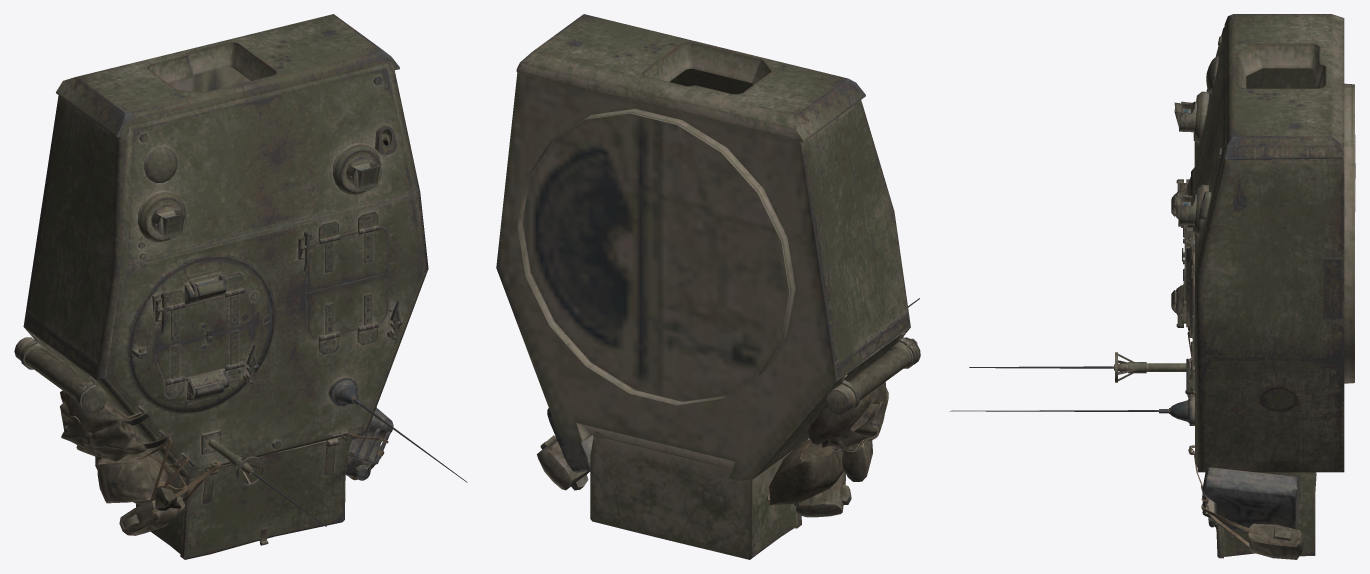
The model's file is Turret_01.glb.
3 renders of one model, left to right at view 1: azimuth 30°, elevation 25°; view 2: azimuth 150°, elevation 25°; view 3: azimuth 270°, elevation 25°, orthographic. The views are drawn at different scales.
Visible parts, largest first — view 1: set_0_group_0; view 2: set_0_group_0; view 3: set_0_group_0.
Part boxes in pixels (bbox=[...]): set_0_group_0: bbox=[14, 14, 467, 559]; set_0_group_0: bbox=[496, 14, 920, 559]; set_0_group_0: bbox=[949, 14, 1355, 559].
Bounding box in the file's own units: 1.92 × 2.44 × 2.01.
Materials: 1 (1 with a texture image).
